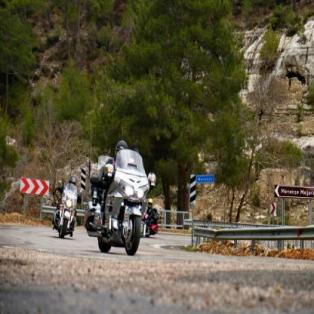Motocicleta: (97, 155, 154, 256)
